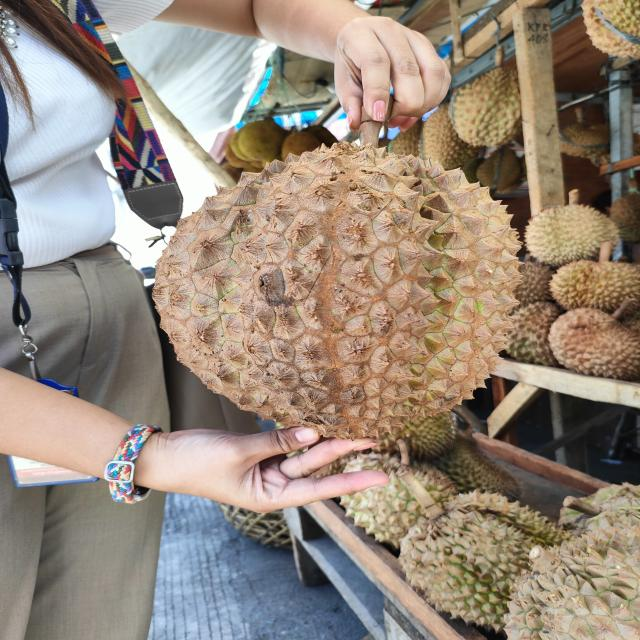mature: (146, 141, 520, 432)
